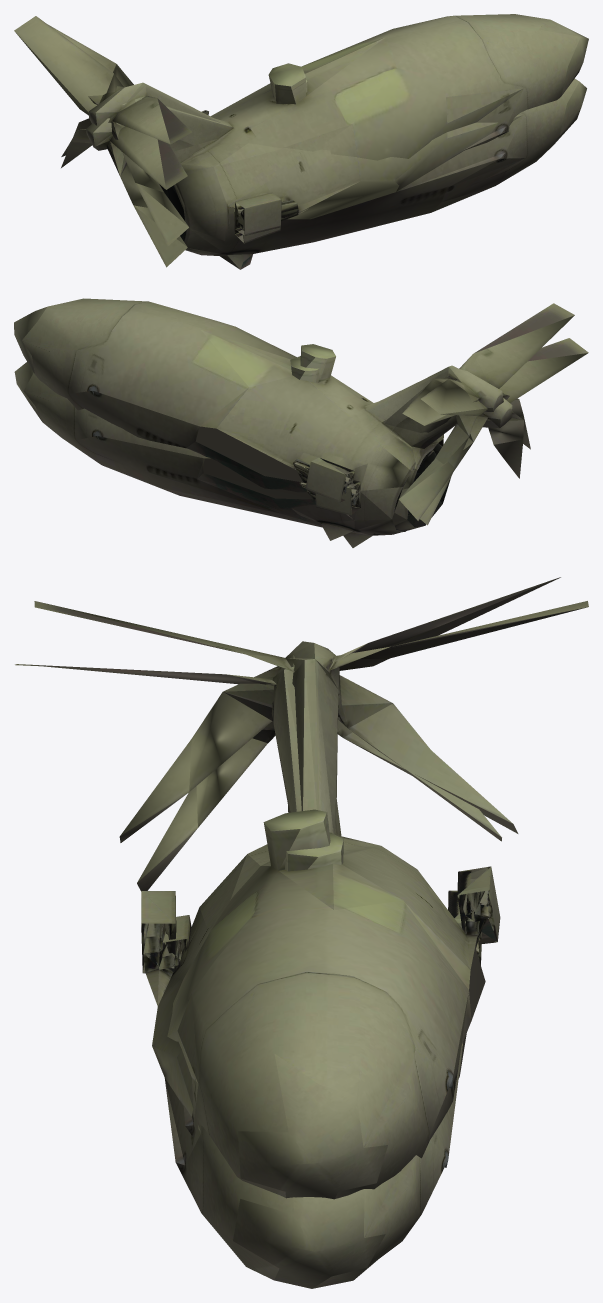
File: attack_drone.glb
The picture shows the model from 3 angles, top to bottom: view 1: azimuth 30°, elevation 25°; view 2: azimuth 150°, elevation 25°; view 3: azimuth 270°, elevation 25°; orthographic projection. The views are drawn at different scales.
Parts seen in each view (by area): view 1: WRECK_hull_hull, hull_hull, hull_metal, WRECK_hull_metal, WRECK_hull_glass, hull_glass; view 2: WRECK_hull_hull, hull_hull, WRECK_hull_metal, hull_metal, WRECK_hull_glass, hull_glass; view 3: WRECK_hull_hull, hull_hull, hull_metal, WRECK_hull_metal, WRECK_hull_glass, hull_glass.
Part boxes in pixels (x1,y1,x2,y2): WRECK_hull_hull: (167, 14, 580, 243); hull_hull: (159, 79, 579, 269); hull_metal: (49, 25, 227, 255); WRECK_hull_metal: (14, 16, 233, 267); WRECK_hull_glass: (539, 20, 588, 95); hull_glass: (560, 78, 586, 134); WRECK_hull_hull: (22, 298, 410, 540); hull_hull: (24, 356, 447, 547); WRECK_hull_metal: (354, 338, 588, 534); hull_metal: (375, 303, 574, 534); WRECK_hull_glass: (14, 307, 46, 373); hull_glass: (14, 362, 41, 420); WRECK_hull_hull: (156, 671, 500, 1199); hull_hull: (141, 660, 481, 1288); hull_metal: (34, 601, 588, 842); WRECK_hull_metal: (15, 577, 560, 891); WRECK_hull_glass: (238, 1054, 387, 1199); hull_glass: (233, 1189, 385, 1288).
Bounding box in the file's own units: 1.61 × 0.6585 × 0.8834.
Materials: 1 (1 with a texture image).
